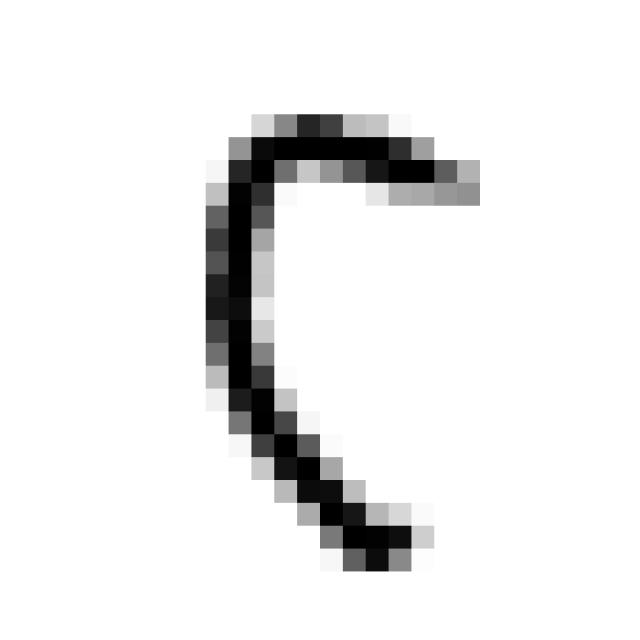2 -two-: (181, 94, 498, 580)
